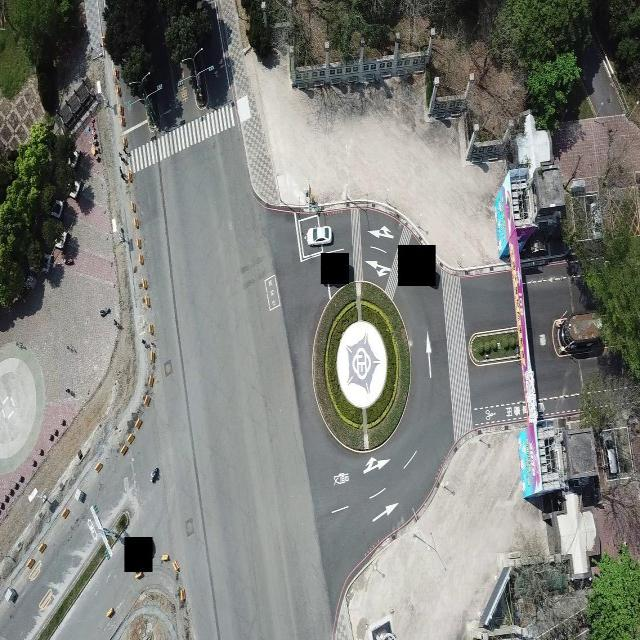bike: (149, 466, 160, 483)
car: (601, 429, 618, 481), (589, 201, 603, 245), (306, 225, 333, 247)
